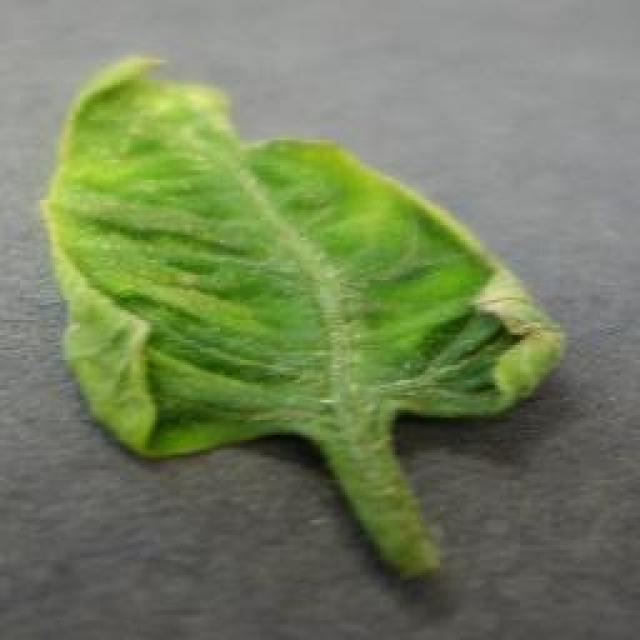Tomato yellow virus leaf: (42, 46, 570, 466)
